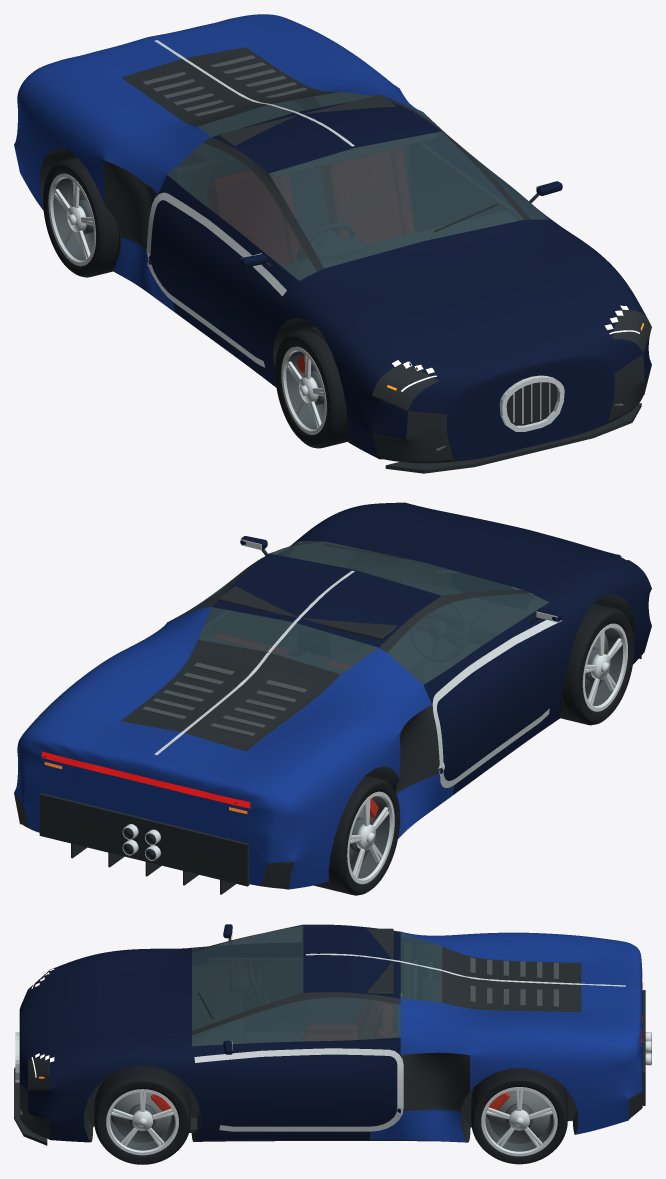
File: corsaire_w16.glb
3 renders of one model, top to bottom at view 1: azimuth 30°, elevation 25°; view 2: azimuth 150°, elevation 25°; view 3: azimuth 270°, elevation 25°, orthographic. The views are drawn at different scales.
Visible parts, largest first — view 1: BodyStatic, GlassPanels, InteriorAssembly, WheelRearLGeometry, WheelFrontLGeometry; view 2: BodyStatic, GlassPanels, InteriorAssembly, WheelFrontLGeometry, WheelRearLGeometry; view 3: BodyStatic, GlassPanels, InteriorAssembly, WheelFrontRGeometry, WheelRearRGeometry.
Boxes of the visible parts, <box> form: BodyStatic: <box>14,14,651,473</box>; GlassPanels: <box>167,91,548,280</box>; InteriorAssembly: <box>168,94,522,280</box>; WheelRearLGeometry: <box>43,157,121,277</box>; WheelFrontLGeometry: <box>275,326,348,448</box>; BodyStatic: <box>14,502,651,894</box>; GlassPanels: <box>169,541,548,684</box>; InteriorAssembly: <box>198,585,527,684</box>; WheelFrontLGeometry: <box>560,603,634,725</box>; WheelRearLGeometry: <box>314,775,400,895</box>; BodyStatic: <box>14,924,651,1145</box>; GlassPanels: <box>192,924,442,1046</box>; InteriorAssembly: <box>189,928,441,1132</box>; WheelFrontRGeometry: <box>94,1066,190,1164</box>; WheelRearRGeometry: <box>471,1068,567,1164</box>.
Size of the model in its own units: 2.14 by 1.21 by 4.59.
